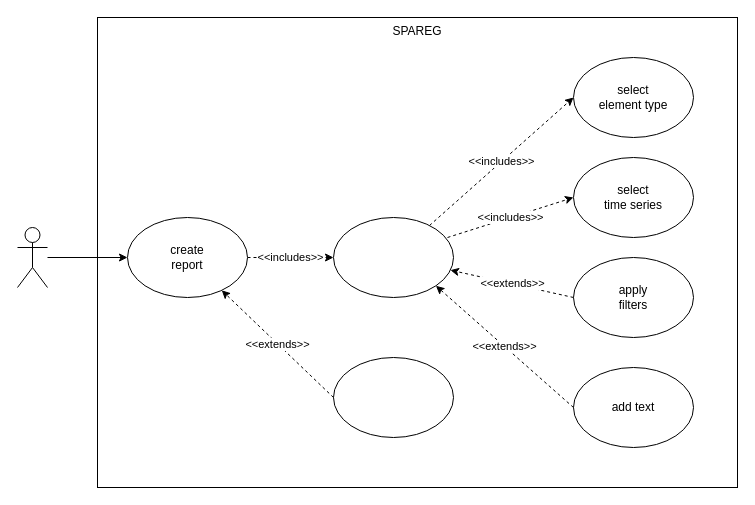
Some shapes in this 755 by 505 pixel diagram are drawn without their labels. Each missing label, with the centre of its shape:
"add element" goes at (x=393, y=257).
"remove element" goes at (x=393, y=397).
"User" goes at (x=32, y=257).
